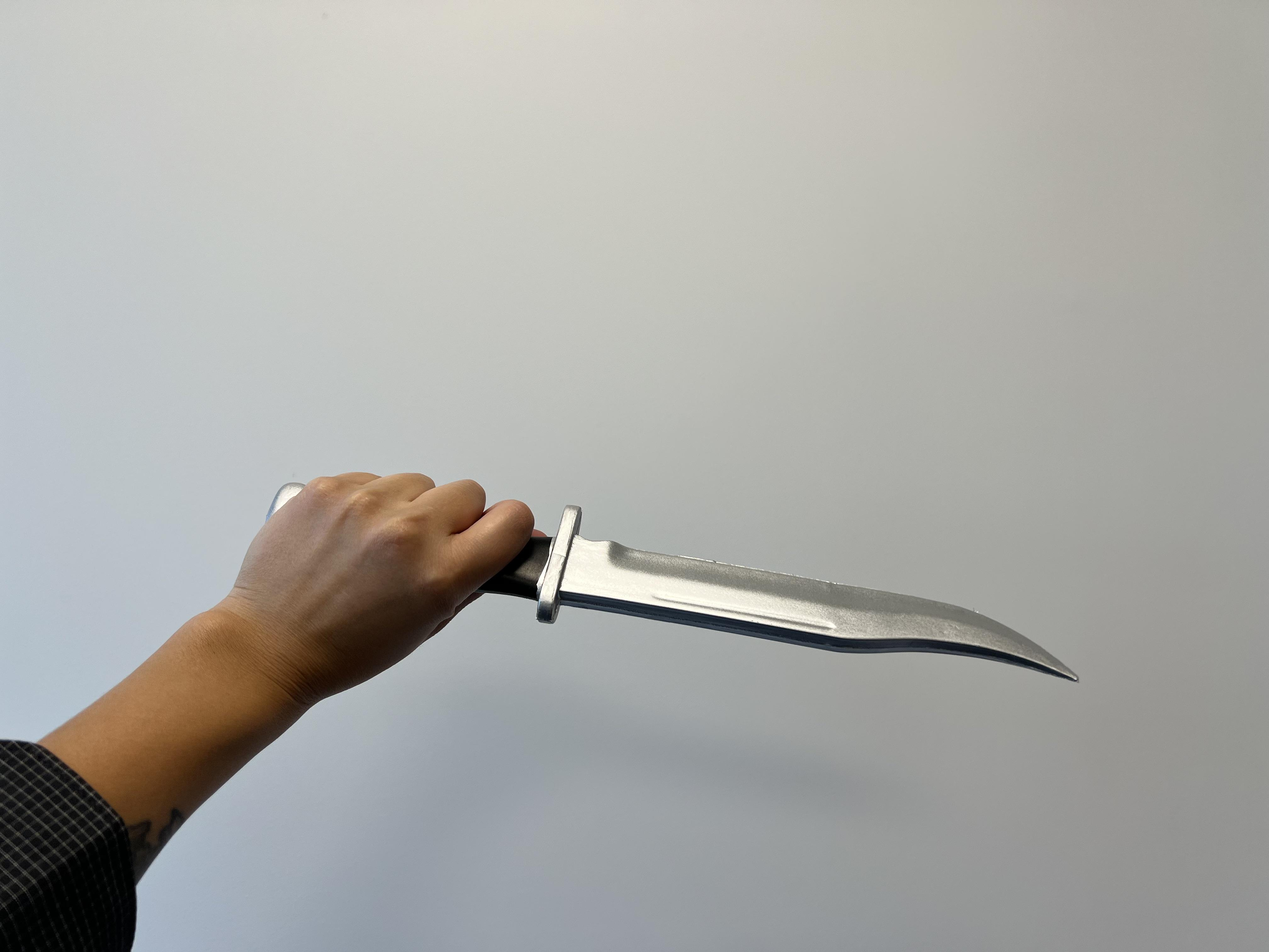Knife: (0, 473, 531, 952), (516, 508, 1081, 686), (220, 474, 531, 679)
